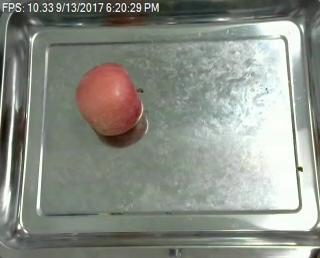apple: (76, 63, 145, 137)
